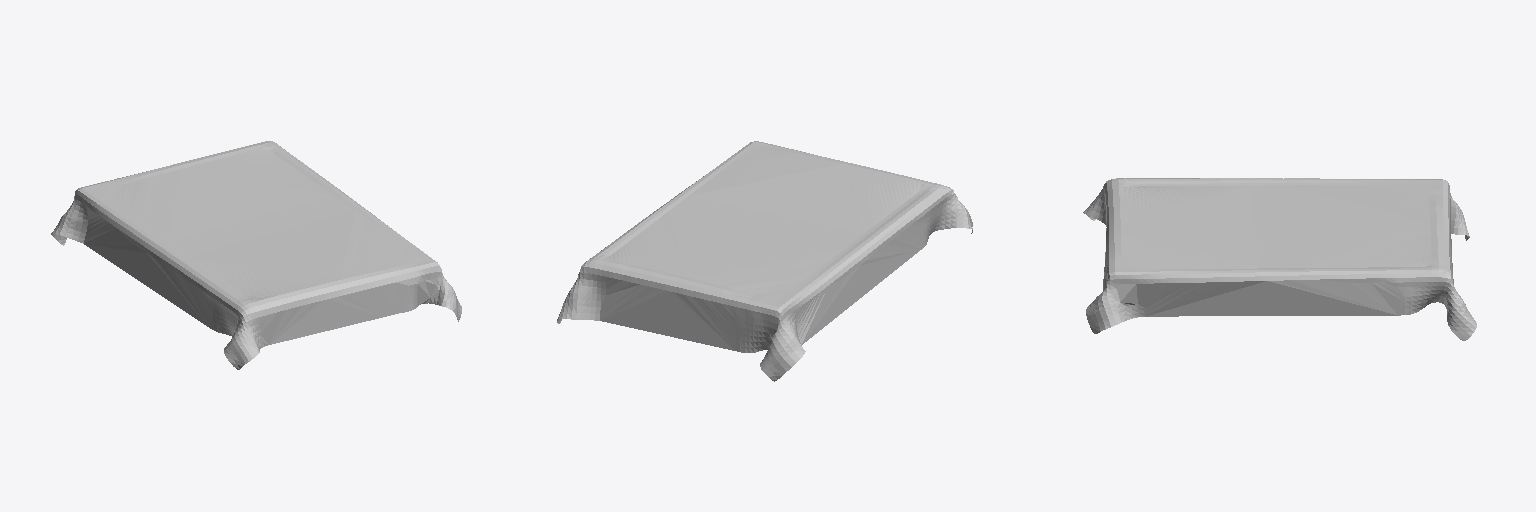
The model's file is cloth.obj.
3 views of the same model, side by side, from view 1: azimuth 30°, elevation 25°; view 2: azimuth 150°, elevation 25°; view 3: azimuth 270°, elevation 25° (orthographic).
Parts seen in each view (by area): view 1: Plane_Plane.002; view 2: Plane_Plane.002; view 3: Plane_Plane.002.
Boxes of the visible parts, box(x1,y1,x2,y2) form: Plane_Plane.002: box(51, 141, 461, 369); Plane_Plane.002: box(557, 141, 972, 381); Plane_Plane.002: box(1083, 178, 1476, 340).
Size of the model in its own units: 4.47 by 1.2 by 6.42.